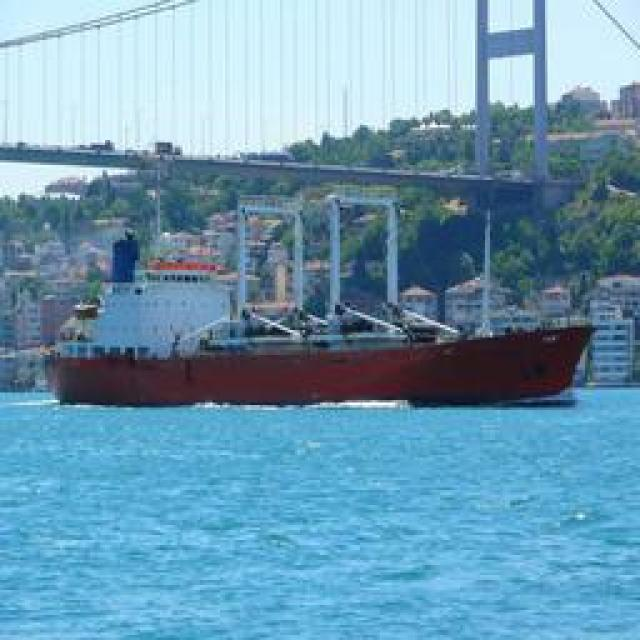ship2: (50, 192, 599, 409)
